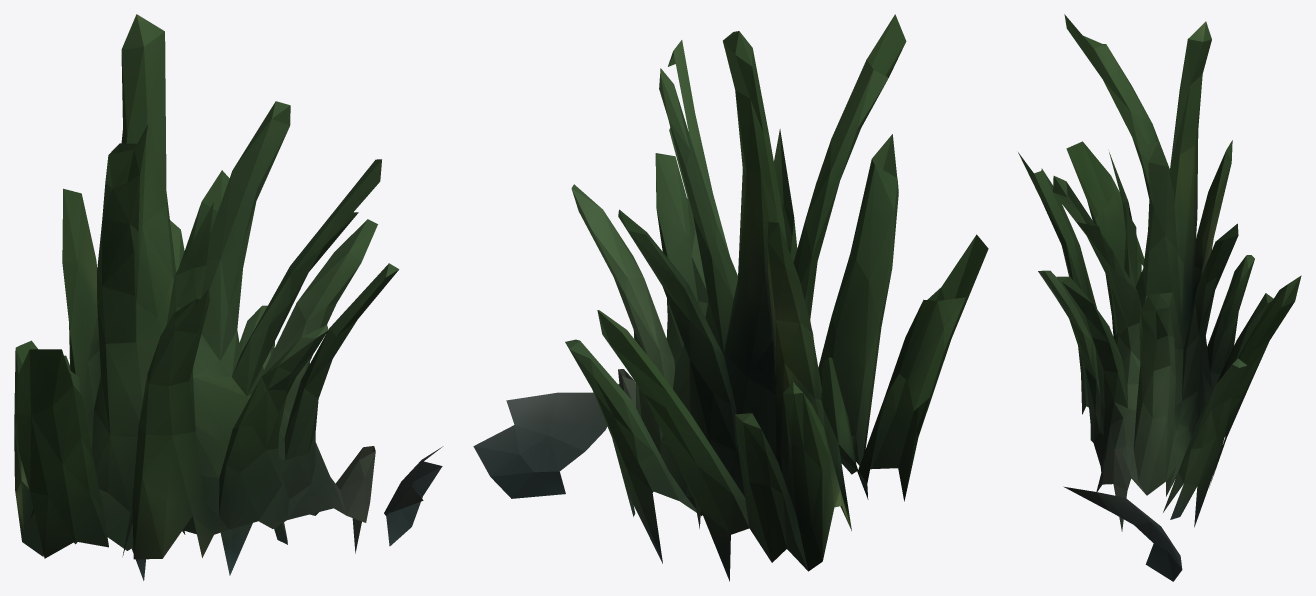
Rendered from terrain3_plant_3.glb.
The picture shows the model from 3 angles, left to right: view 1: azimuth 30°, elevation 25°; view 2: azimuth 150°, elevation 25°; view 3: azimuth 270°, elevation 25°; orthographic projection. The views are drawn at different scales.
Visible parts, largest first — view 1: plant_3; view 2: plant_3; view 3: plant_3.
Part boxes in pixels (x1=…): plant_3: x1=14, y1=14, x2=443, y2=580; plant_3: x1=473, y1=14, x2=988, y2=581; plant_3: x1=1018, y1=14, x2=1301, y2=581.
Size of the model in its own units: 6.88 by 8.03 by 4.37.
1 material, 1 textured.
